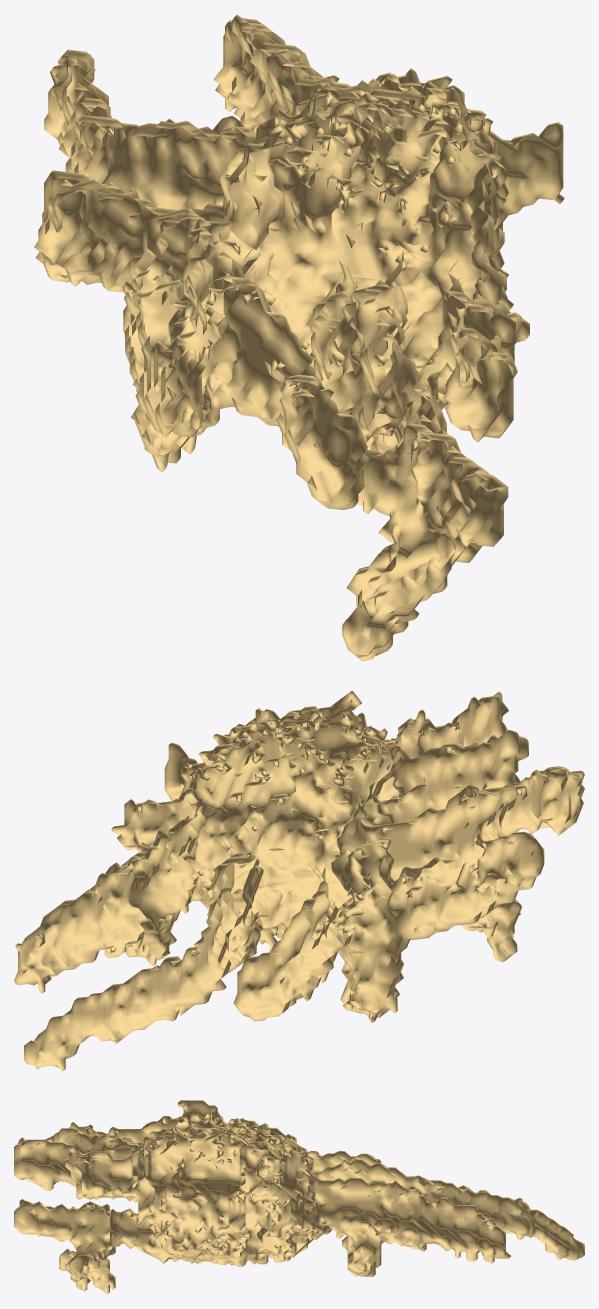
File: osteocyte_58.glb
The picture shows the model from 3 angles, top to bottom: view 1: azimuth 30°, elevation 25°; view 2: azimuth 150°, elevation 25°; view 3: azimuth 270°, elevation 25°; orthographic projection. The views are drawn at different scales.
Visible parts, largest first — view 1: osteocyte_58; view 2: osteocyte_58; view 3: osteocyte_58.
Part boxes in pixels (x1,y1,x2,y2): osteocyte_58: [34, 14, 564, 661]; osteocyte_58: [14, 690, 584, 1071]; osteocyte_58: [14, 1100, 584, 1294].
Bounding box in the file's own units: 23.11 × 20.7 × 48.63.
